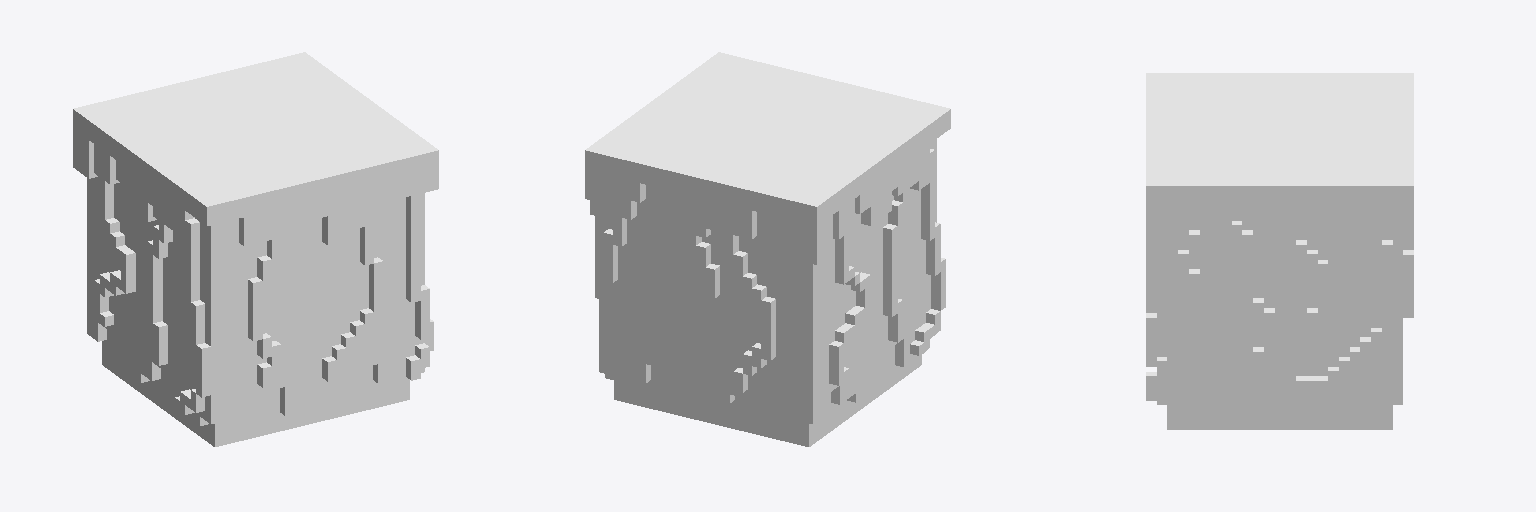
File: TestGame-4.obj
3 views of the same model, side by side, from view 1: azimuth 30°, elevation 25°; view 2: azimuth 150°, elevation 25°; view 3: azimuth 270°, elevation 25° (orthographic).
Parts seen in each view (by area): view 1: object 1; view 2: object 1; view 3: object 1.
Boxes of the visible parts, x1=… form: object 1: x1=73, y1=52, x2=438, y2=446; object 1: x1=585, y1=52, x2=950, y2=446; object 1: x1=1146, y1=73, x2=1413, y2=429.
Bounding box in the file's own units: 2.5 × 2.6 × 2.5.